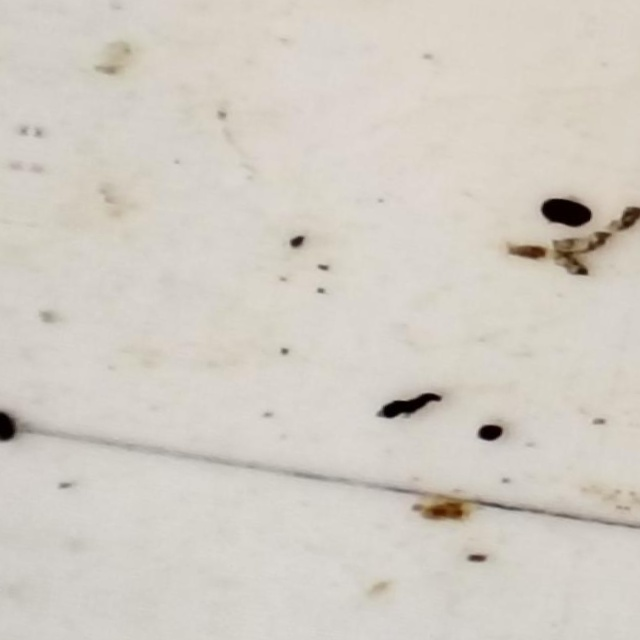varroa: (539, 194, 595, 230), (471, 421, 503, 445)
